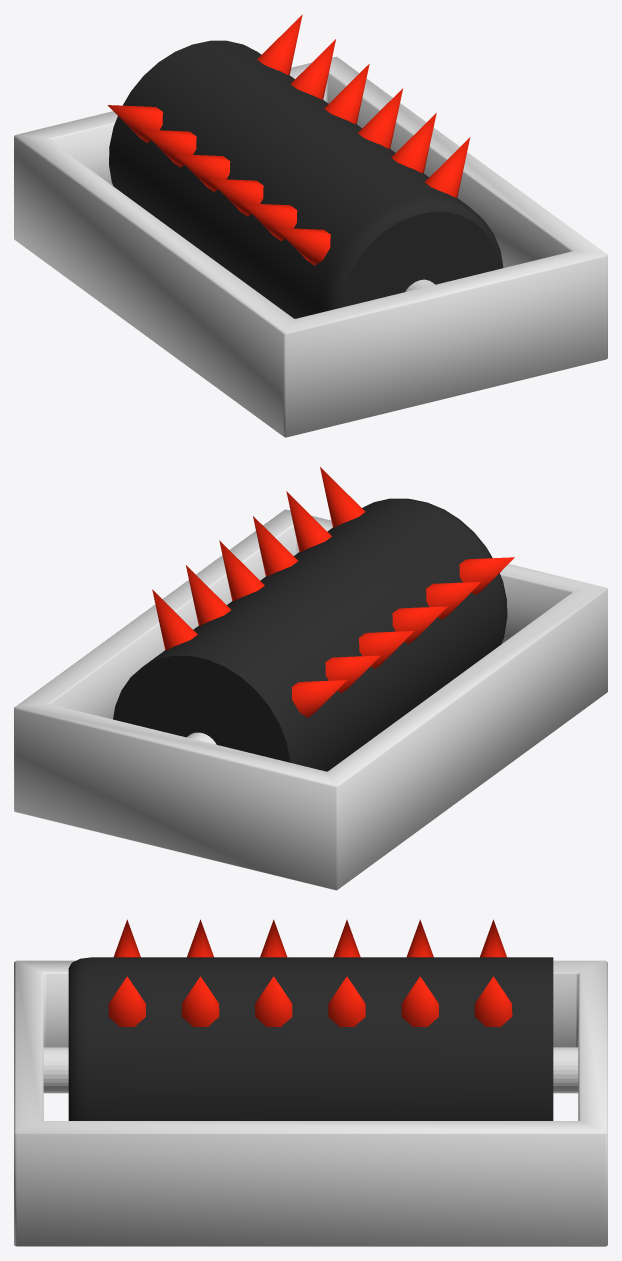
Rendered from sydeCylinder.fbx.
The picture shows the model from 3 angles, top to bottom: view 1: azimuth 30°, elevation 25°; view 2: azimuth 150°, elevation 25°; view 3: azimuth 270°, elevation 25°; orthographic projection. The views are drawn at different scales.
Parts seen in each view (by area): view 1: SpiralBase, CylinderObstacle.001; view 2: SpiralBase, CylinderObstacle.001; view 3: SpiralBase, CylinderObstacle.001, CylinderObstacle.002.
Part boxes in pixels (bbox=[...]): SpiralBase: bbox=[14, 56, 607, 437]; CylinderObstacle.001: bbox=[107, 14, 503, 318]; SpiralBase: bbox=[14, 509, 607, 890]; CylinderObstacle.001: bbox=[113, 467, 514, 771]; SpiralBase: bbox=[14, 960, 607, 1246]; CylinderObstacle.001: bbox=[68, 919, 553, 1120]; CylinderObstacle.002: bbox=[43, 1047, 578, 1093].
Size of the model in its own units: 231 by 168 by 335.
